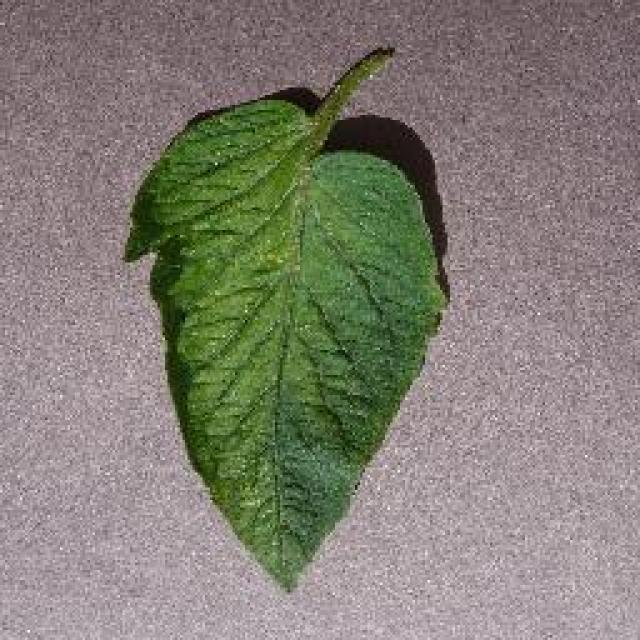Tomato___Spider_mites Two-spotted_spider_mite: (125, 50, 445, 590)
